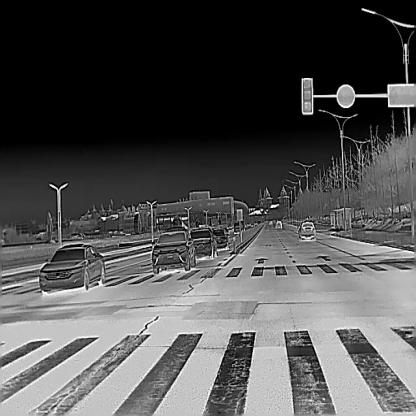car: (38, 243, 106, 294), (151, 226, 195, 273), (187, 226, 218, 256), (208, 228, 228, 250), (297, 220, 315, 240), (233, 221, 240, 232), (275, 220, 281, 229), (250, 221, 254, 227), (268, 219, 272, 224)
